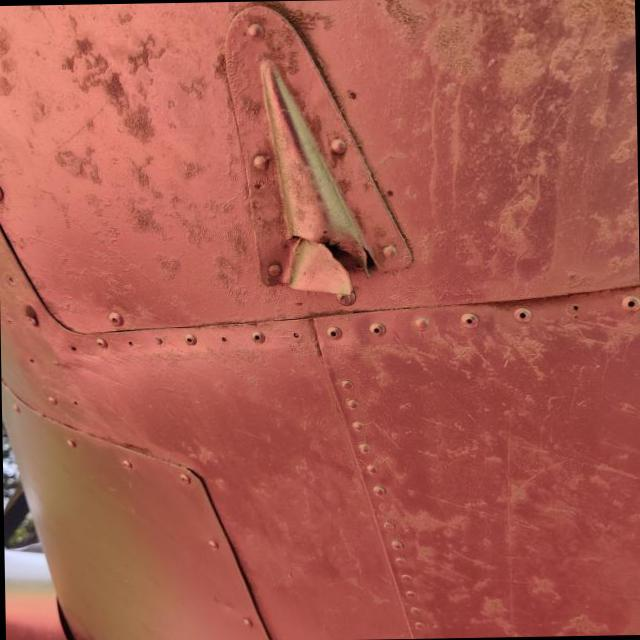Rupture: (266, 214, 402, 323)
